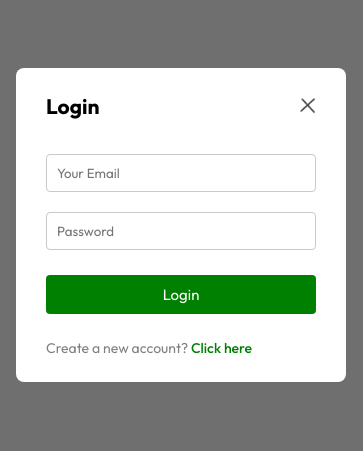
login page › renders the register form when toggled
The width and height of the screenshot is (363, 451).
Click the text "Click here": (222,348) [191,339,252,357]
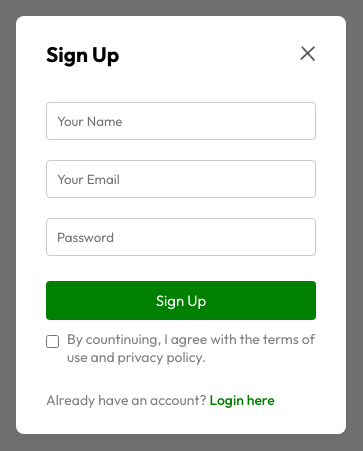
Result: the button "Sign Up" is shown at [46,281,316,320]
Result: the field with placeholder "Your Name" is shown at [46,102,316,140]
Result: the checkbox is shown at [46,335,59,348]
